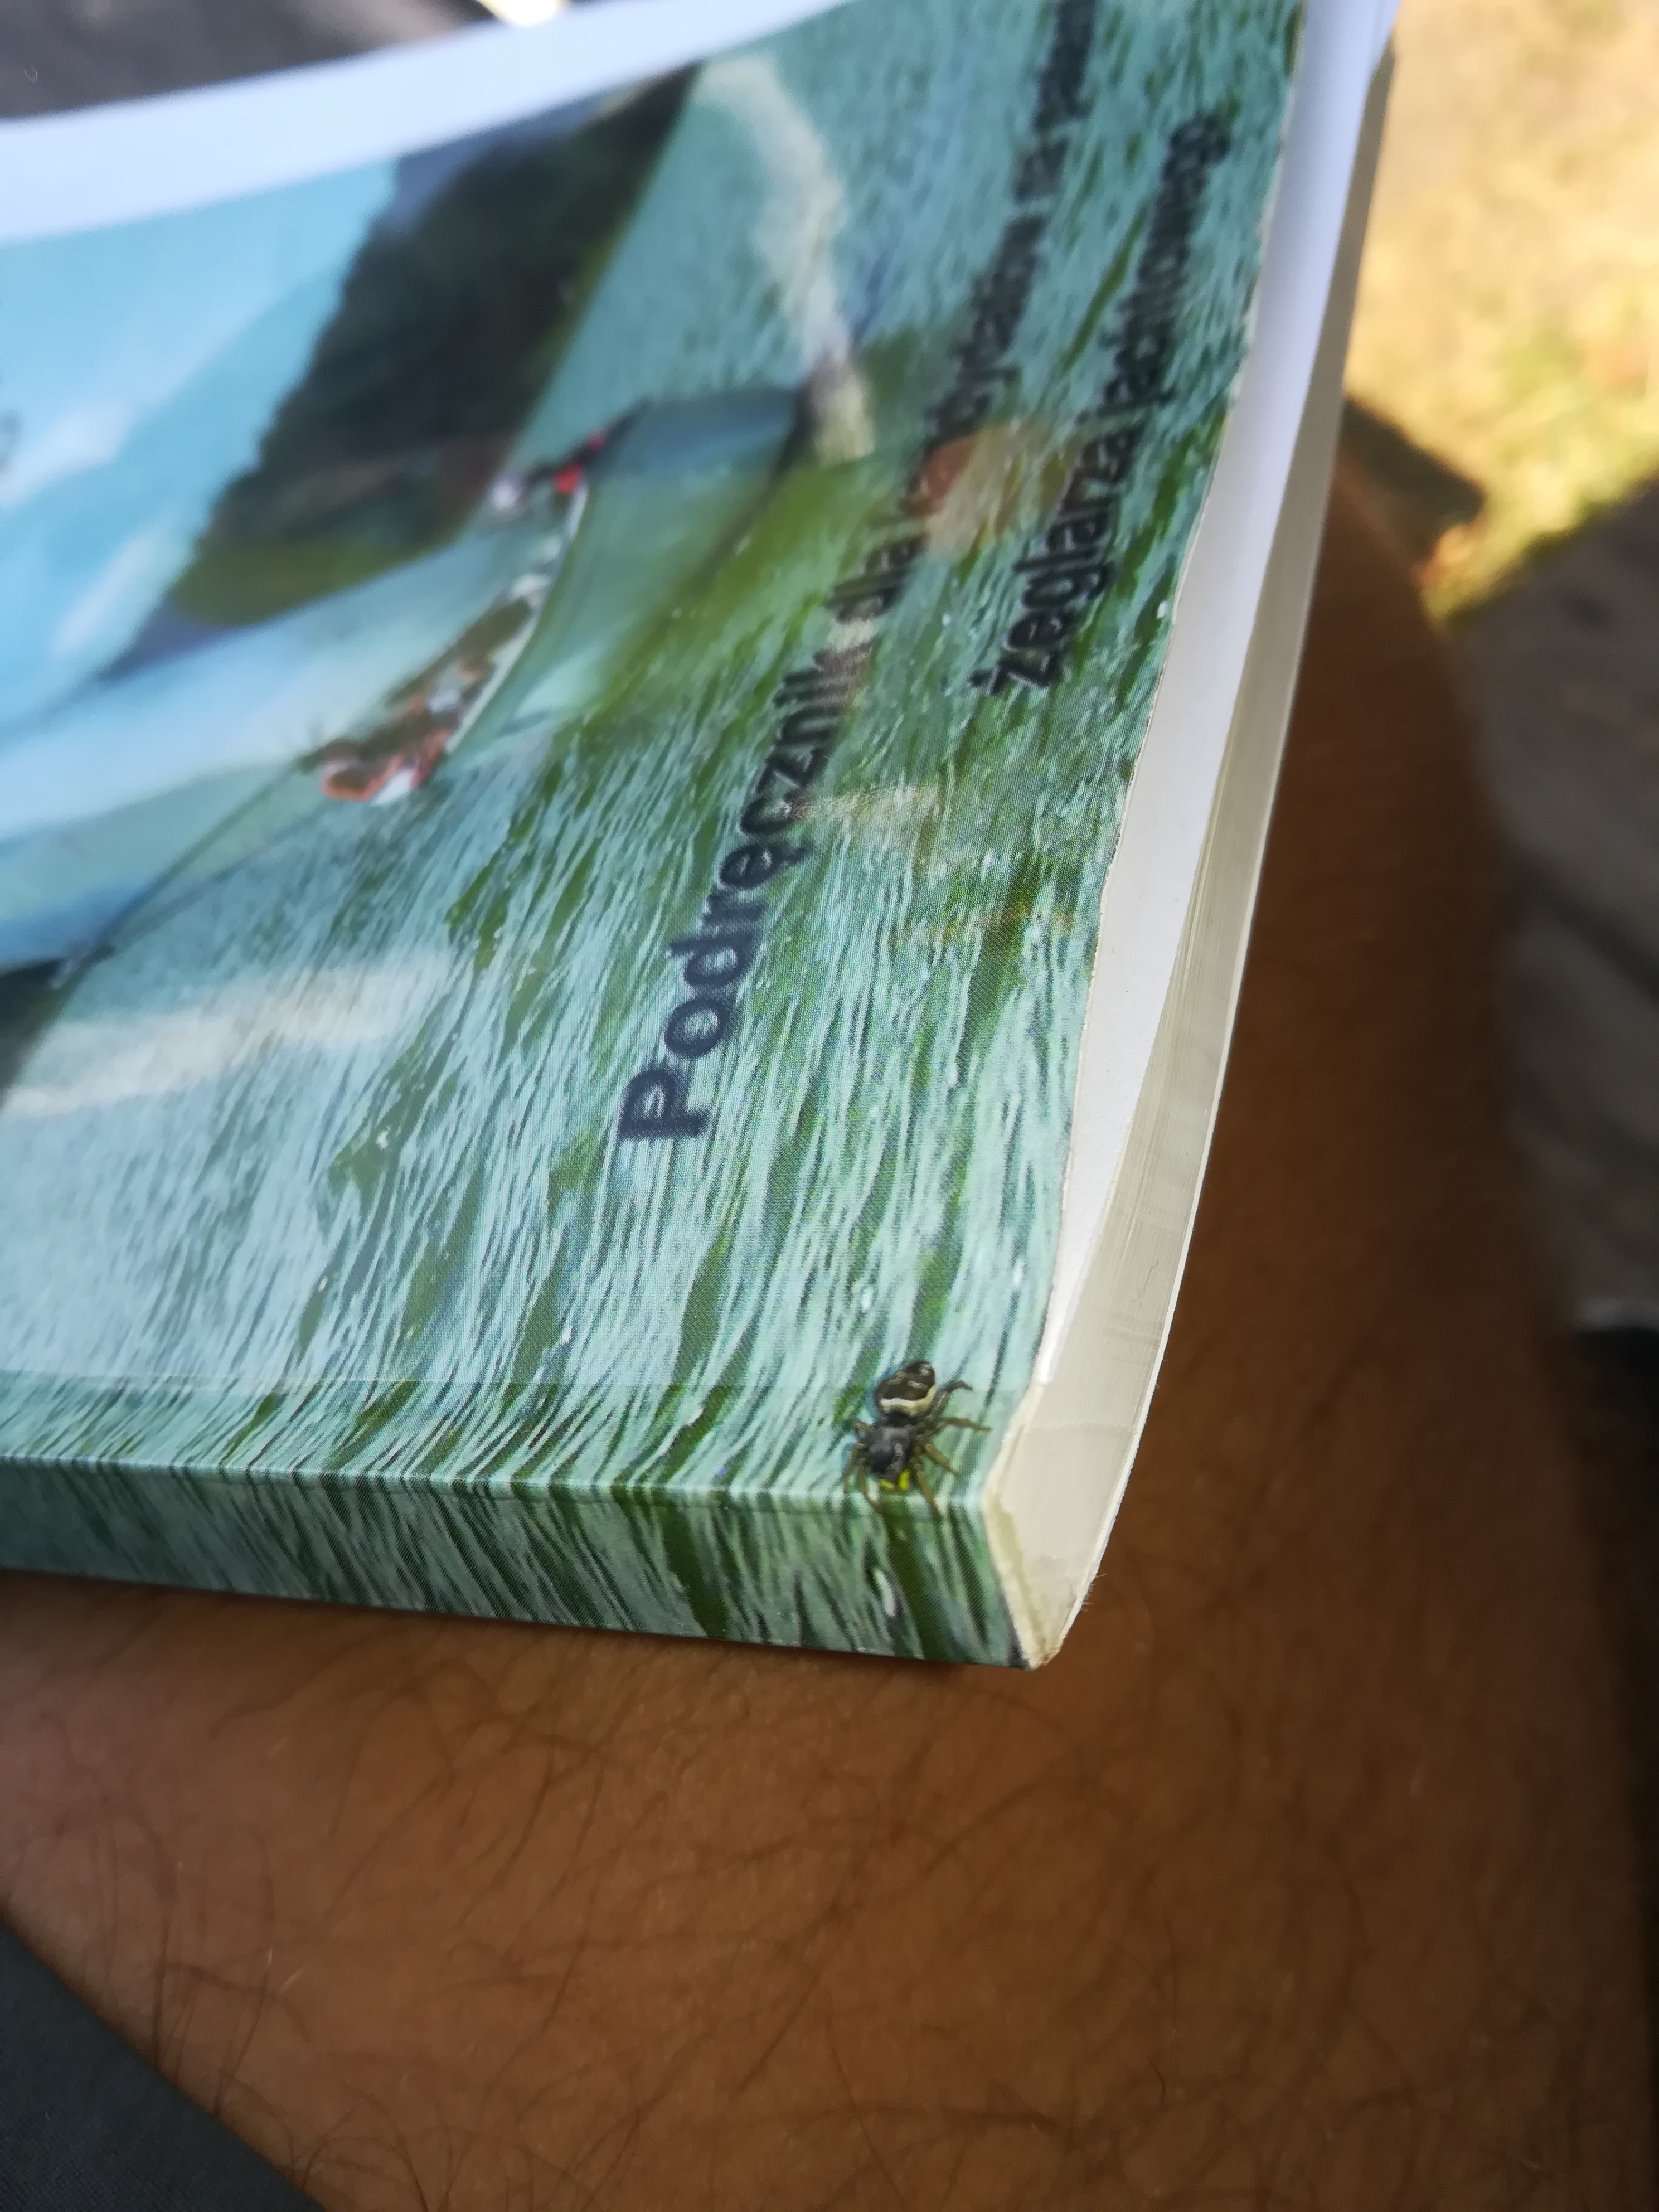spider: (802, 1322, 1021, 1529)
